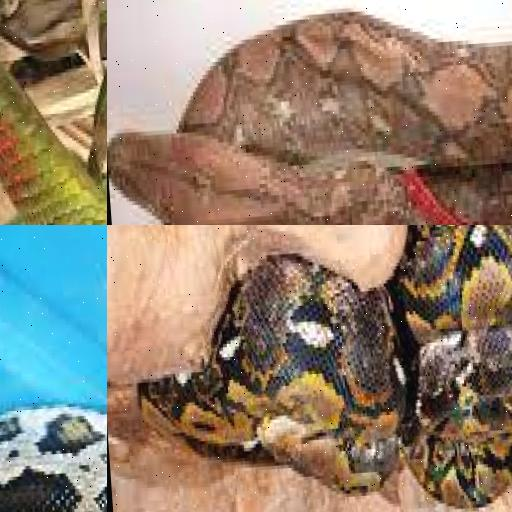snake: (107, 225, 512, 512), (107, 0, 512, 225), (0, 225, 107, 512), (0, 0, 107, 225)
